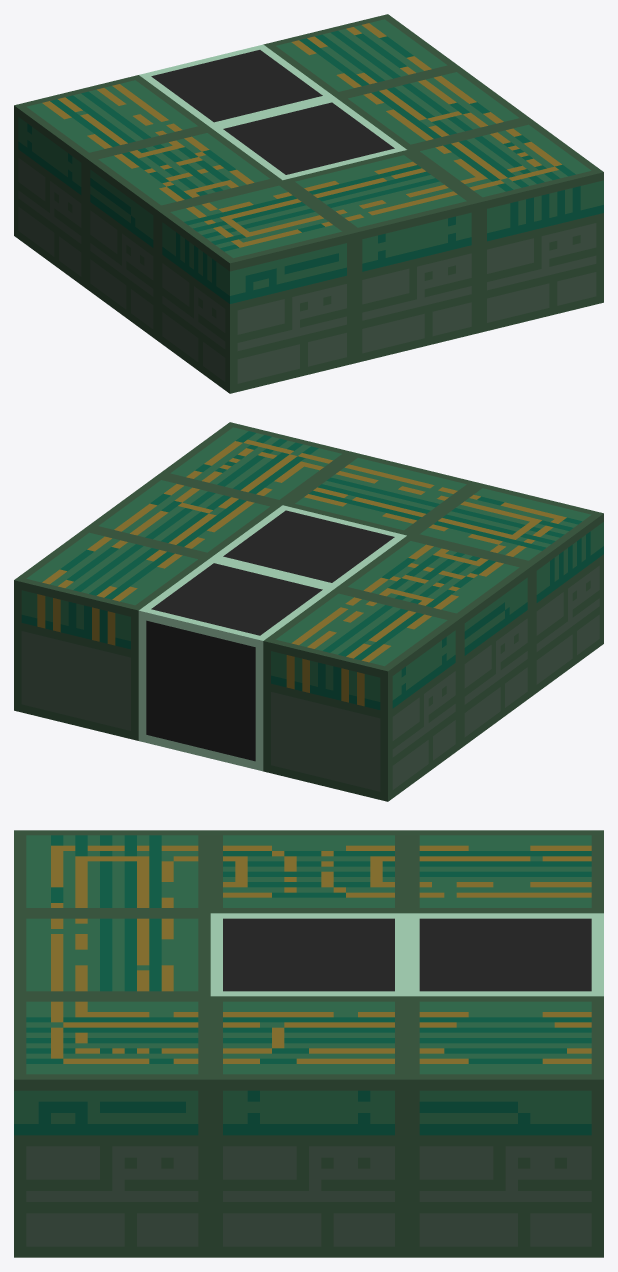
The model's file is m_tiles_9_3x3.fbx.
3 renders of one model, top to bottom at view 1: azimuth 30°, elevation 25°; view 2: azimuth 150°, elevation 25°; view 3: azimuth 270°, elevation 25°, orthographic. The views are drawn at different scales.
Parts seen in each view (by area): view 1: m_tiles_9_3x3; view 2: m_tiles_9_3x3; view 3: m_tiles_9_3x3.
Part boxes in pixels (bbox=[...]): m_tiles_9_3x3: bbox=[14, 14, 603, 393]; m_tiles_9_3x3: bbox=[14, 422, 603, 801]; m_tiles_9_3x3: bbox=[14, 830, 603, 1257].
Bounding box in the file's own units: 4.8 × 1.6 × 4.8.
Materials: 1 (1 with a texture image).
